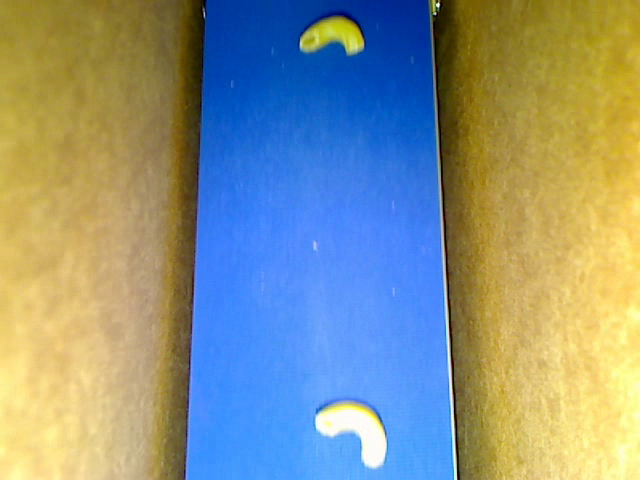elbow: (313, 400, 387, 468), (300, 16, 364, 55)
